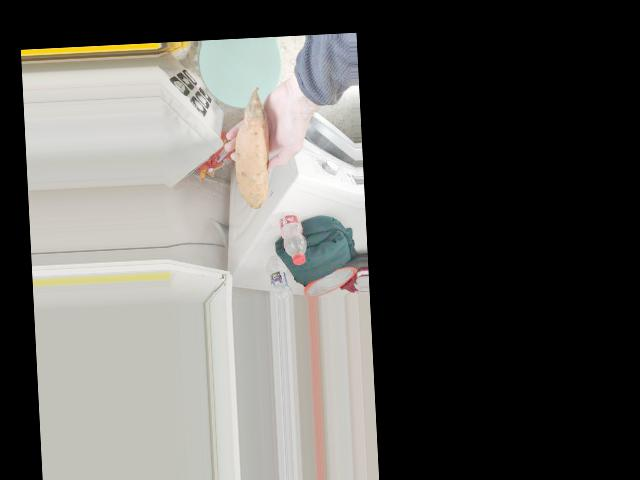sweet_potato: (234, 111, 279, 219)
